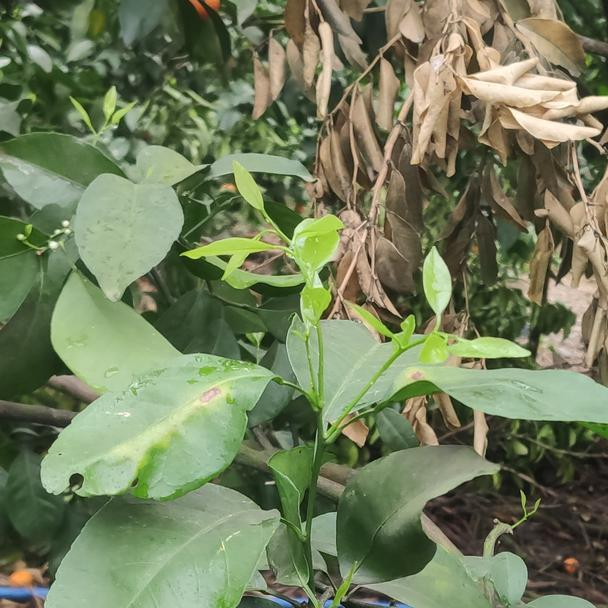shoot: (227, 193, 345, 406), (358, 254, 526, 397)
